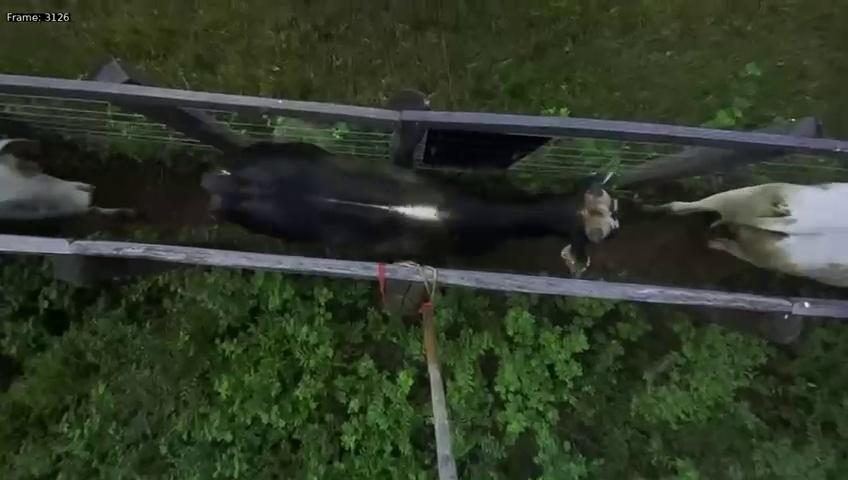cattle: (195, 134, 629, 283)
